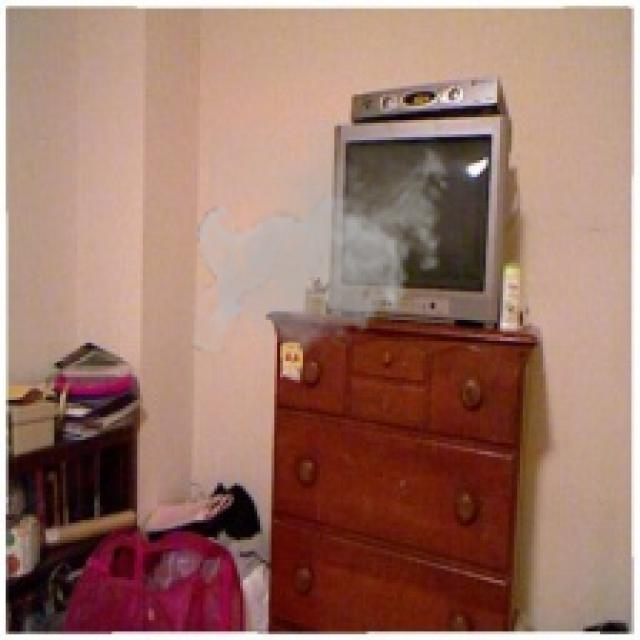smoke: (192, 120, 457, 366)
